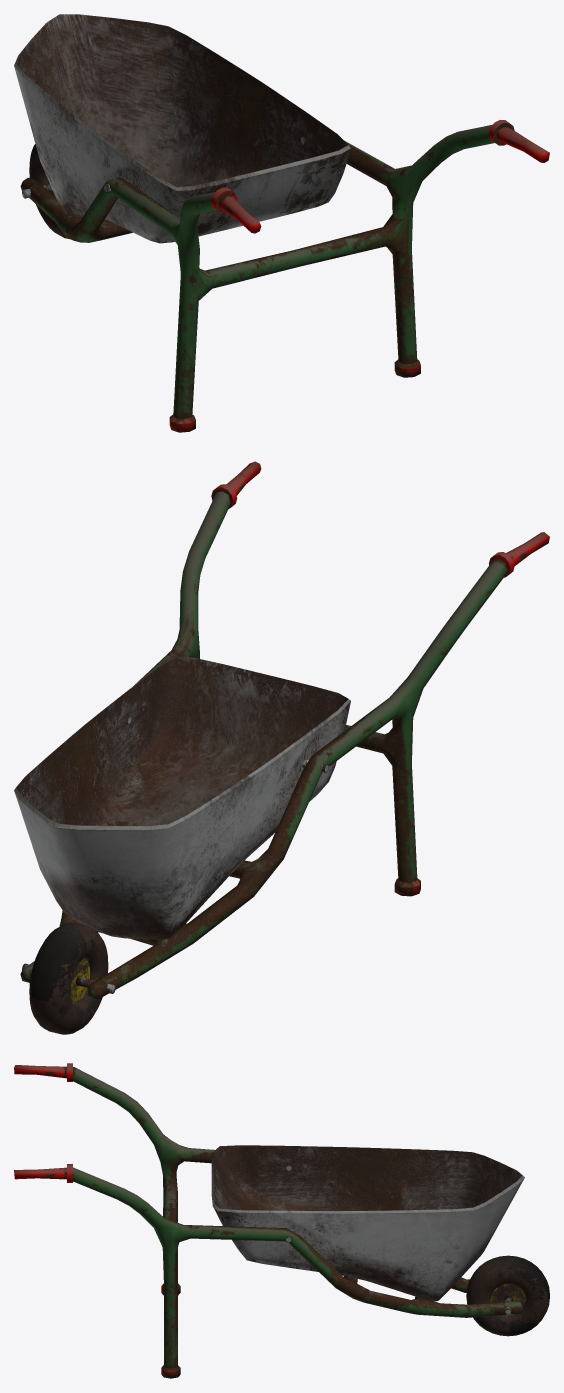
The model's file is Garden_cart.fbx.
The picture shows the model from 3 angles, top to bottom: view 1: azimuth 30°, elevation 25°; view 2: azimuth 150°, elevation 25°; view 3: azimuth 270°, elevation 25°; orthographic projection. The views are drawn at different scales.
Parts seen in each view (by area): view 1: Garden_cart; view 2: Garden_cart; view 3: Garden_cart.
Boxes of the visible parts, bbox=[...] form: Garden_cart: bbox=[14, 14, 549, 432]; Garden_cart: bbox=[14, 461, 549, 1034]; Garden_cart: bbox=[14, 1063, 549, 1378].
Bounding box in the file's own units: 464 × 437 × 962.
